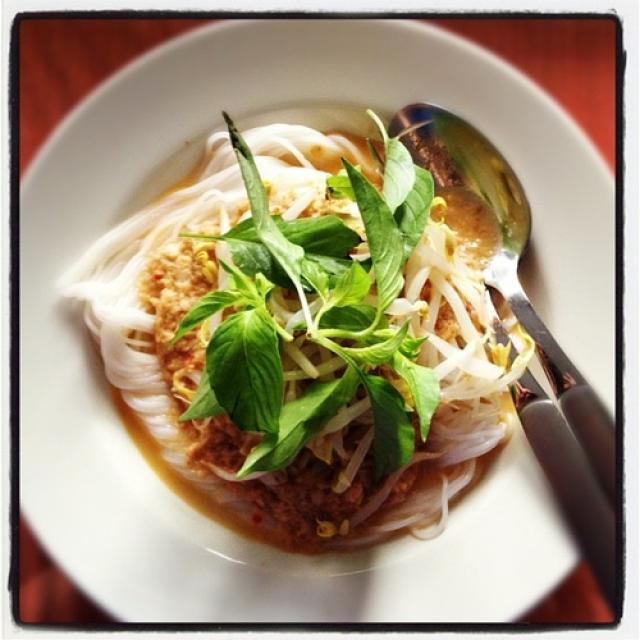面条主食: (37, 32, 620, 613)
